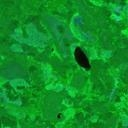alloviz: (72, 44, 91, 71)
